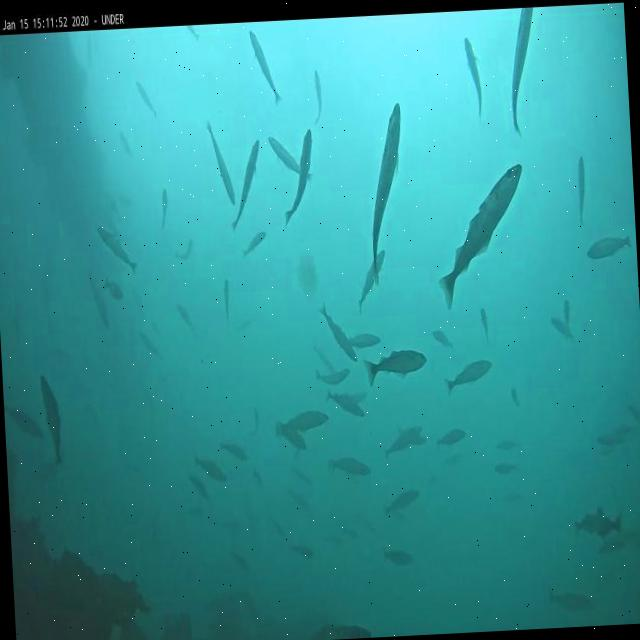fish: (430, 162, 530, 310), (362, 96, 411, 288), (505, 7, 541, 133), (278, 126, 316, 226), (228, 140, 264, 231), (206, 118, 238, 205), (362, 348, 428, 390), (268, 131, 315, 188), (249, 28, 281, 106), (354, 247, 390, 314), (320, 299, 356, 364), (40, 372, 64, 468), (96, 222, 140, 274), (442, 358, 492, 396), (464, 36, 486, 121), (572, 506, 627, 538), (548, 584, 598, 617), (5, 404, 45, 442), (276, 409, 330, 437), (585, 231, 634, 261), (87, 268, 111, 329), (382, 426, 423, 461), (325, 386, 367, 419), (328, 454, 374, 481), (194, 452, 230, 486), (384, 489, 422, 516), (574, 153, 588, 224), (136, 328, 164, 363), (314, 363, 350, 388), (381, 543, 416, 567), (136, 80, 158, 118), (219, 438, 250, 463), (549, 313, 574, 342), (242, 230, 268, 256), (312, 70, 324, 126), (345, 331, 382, 349), (290, 543, 317, 567), (436, 427, 468, 447), (173, 301, 194, 329), (102, 277, 125, 302), (174, 238, 196, 264), (431, 328, 454, 352), (119, 128, 135, 160), (160, 188, 172, 230), (562, 296, 572, 344), (493, 437, 521, 453), (493, 459, 518, 476), (221, 278, 231, 318), (249, 407, 261, 439), (478, 305, 490, 335)
